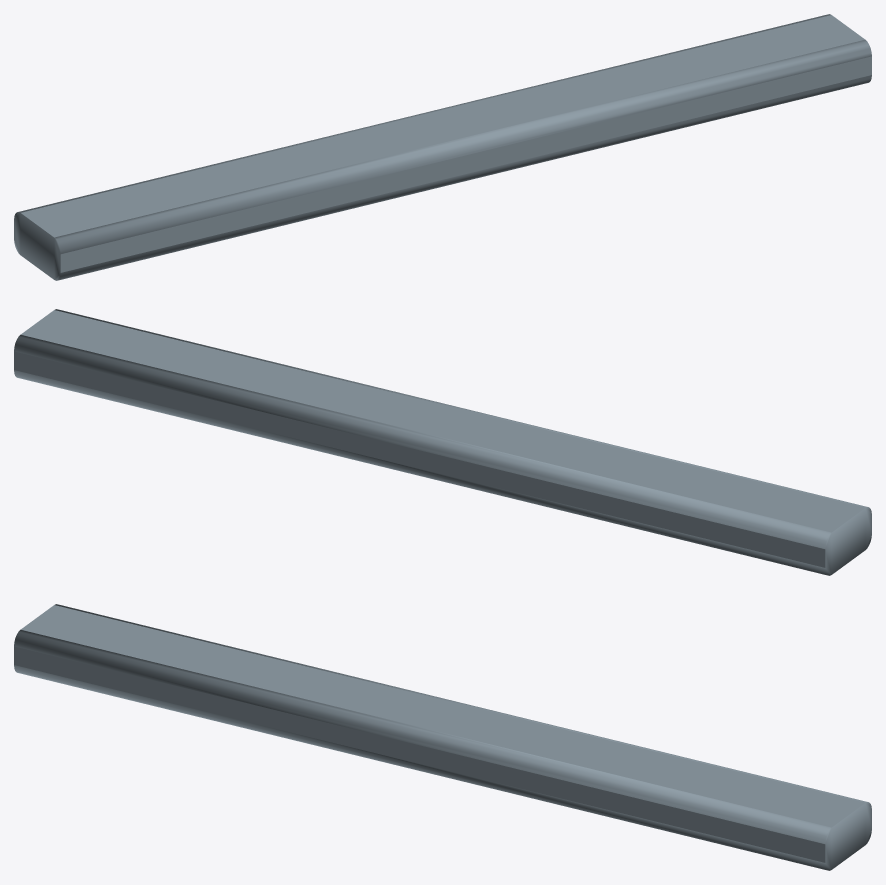
The model's file is Ridge.glb.
The picture shows the model from 3 angles, top to bottom: view 1: azimuth 30°, elevation 25°; view 2: azimuth 150°, elevation 25°; view 3: azimuth 330°, elevation 25°; orthographic projection.
Visible parts, largest first — view 1: PBK_ridge.003; view 2: PBK_ridge.003; view 3: PBK_ridge.003.
Boxes of the visible parts, x1,y1,x2,y2 form: PBK_ridge.003: (14, 14, 871, 280); PBK_ridge.003: (14, 309, 871, 575); PBK_ridge.003: (14, 604, 871, 870).
Size of the model in its own units: 2 by 0.1 by 0.2.
